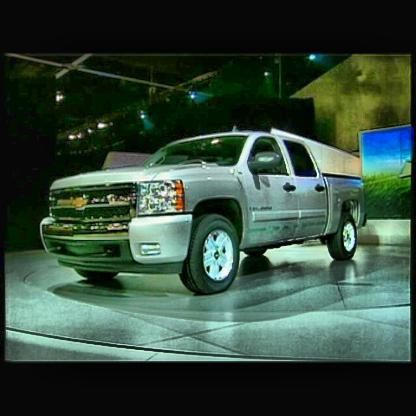Chevrolet Silverado 1500 Hybrid Crew Cab 2012: (41, 133, 367, 297)
